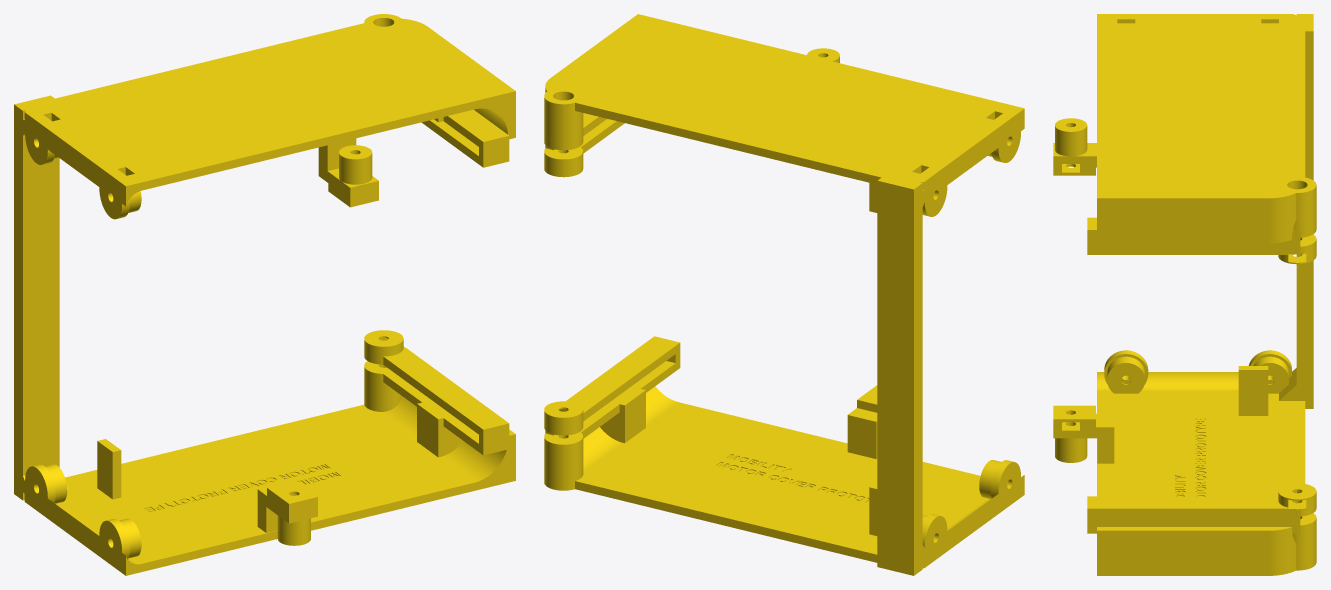
The model's file is Base___F_fit___inside_labels.gltf.
The picture shows the model from 3 angles, left to right: view 1: azimuth 30°, elevation 25°; view 2: azimuth 150°, elevation 25°; view 3: azimuth 270°, elevation 25°; orthographic projection. The views are drawn at different scales.
Parts seen in each view (by area): view 1: mesh79263, mesh79286, mesh79152, mesh79274, mesh79158, mesh79210, mesh79223, mesh79215, mesh79224, mesh79227, mesh79235, mesh79166 (+9 smaller); view 2: mesh79263, mesh79286, mesh79195, mesh79274, mesh79142, mesh79196, mesh79223, mesh79235, mesh79180, mesh79215, mesh79227, mesh79224 (+5 smaller); view 3: mesh79263, mesh79286, mesh79161, mesh79211, mesh79237, mesh79194, mesh79182, mesh79223, mesh79203, mesh79419, mesh79612, mesh79159 (+13 smaller).
Boxes of the visible parts, <box> form: mesh79263: <box>14,14,515,185</box>; mesh79286: <box>59,404,474,563</box>; mesh79152: <box>23,135,59,475</box>; mesh79274: <box>14,104,125,575</box>; mesh79158: <box>126,91,515,205</box>; mesh79210: <box>126,434,515,575</box>; mesh79223: <box>383,347,508,429</box>; mesh79215: <box>378,396,506,482</box>; mesh79224: <box>383,357,483,454</box>; mesh79227: <box>364,361,478,443</box>; mesh79235: <box>364,367,402,411</box>; mesh79166: <box>448,109,508,141</box>; mesh79263: <box>544,14,1024,189</box>; mesh79286: <box>576,402,987,554</box>; mesh79195: <box>877,180,913,575</box>; mesh79274: <box>914,109,1024,575</box>; mesh79142: <box>575,103,881,184</box>; mesh79196: <box>575,481,877,562</box>; mesh79223: <box>566,336,679,412</box>; mesh79235: <box>544,437,583,490</box>; mesh79180: <box>544,98,583,150</box>; mesh79215: <box>583,386,678,471</box>; mesh79227: <box>544,361,675,444</box>; mesh79224: <box>583,343,680,421</box>; mesh79263: <box>1097,14,1316,198</box>; mesh79286: <box>1097,391,1305,496</box>; mesh79161: <box>1097,198,1267,243</box>; mesh79211: <box>1097,530,1267,575</box>; mesh79237: <box>1087,508,1300,533</box>; mesh79194: <box>1279,31,1313,408</box>; mesh79182: <box>1087,230,1300,254</box>; mesh79223: <box>1087,496,1288,508</box>; mesh79203: <box>1141,372,1238,390</box>; mesh79419: <box>1238,370,1268,415</box>; mesh79612: <box>1053,419,1114,463</box>; mesh79159: <box>1268,193,1296,243</box>.
Size of the model in its own units: 0.1487 by 0.1419 by 0.0896.
